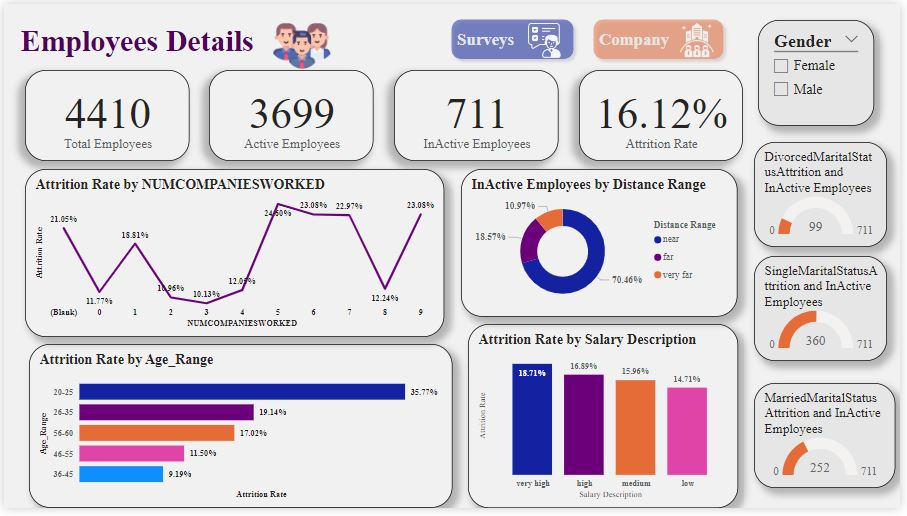

The page's visual inventory and layout, read from the dashboard file:
{"tool":"powerbi","page":{"name":"Employees","canvas":[1280,720],"ordinal":0},"visuals":[{"type":"textbox","box":[18.5,23.5,517.4,63.8],"z":0},{"type":"image","box":[351.1,13.4,147.8,94.1],"z":1000},{"type":"card","fields":{"Values":["MY_Measures.Attrition Rate"]},"box":[822,94.5,233.9,130.4],"z":2000},{"type":"card","fields":{"Values":["MY_Measures.Active Employees"]},"box":[293.4,94.5,235.3,130.4],"z":3000},{"type":"card","fields":{"Values":["MY_Measures.InActive Employees"]},"box":[557,94.5,235.3,130.4],"z":4000},{"type":"card","fields":{"Values":["MY_Measures.Total Employees"]},"box":[29.8,94.5,235.3,130.4],"z":5000},{"type":"slicer","fields":{"Values":["EMPLOYEES_Dim.GENDER"]},"box":[1076.7,23.5,166.3,151.2],"z":6000},{"type":"gauge","fields":{"Y":["MY_Measures.MarriedMaritalStatusAttrition"],"MaxValue":["MY_Measures.InActive Employees"]},"box":[1071.9,540.9,201.6,149.5],"z":7000},{"type":"gauge","fields":{"Y":["MY_Measures.DivorcedMaritalStatusAttrition"],"MaxValue":["MY_Measures.InActive Employees"]},"box":[1071.9,196.5,189.8,149.5],"z":8000},{"type":"gauge","fields":{"MaxValue":["MY_Measures.InActive Employees"],"Y":["MY_Measures.SingleMaritalStatusAttrition"]},"box":[1071.9,359.5,189.8,149.5],"z":9000},{"type":"columnChart","fields":{"Category":["EMPLOYEES_Dim.Salary Description"],"Y":["MY_Measures.Attrition Rate"]},"box":[674.6,457.8,374.2,262.2],"z":10000},{"type":"donutChart","fields":{"Category":["EMPLOYEES_Dim.Distance Range"],"Y":["MY_Measures.InActive Employees"]},"box":[653.4,235.3,395.4,211.2],"z":11000},{"type":"barChart","fields":{"Y":["MY_Measures.Attrition Rate"],"Category":["EMPLOYEES_Dim.Age_Range"]},"box":[35.4,486.1,605.2,233.9],"z":12000},{"type":"lineChart","fields":{"Category":["EMPLOYEES_Dim.Working Company Years"],"Y":["MY_Measures.Attrition Rate"]},"box":[29.8,235.3,592.4,239.5],"z":13000},{"type":"actionButton","box":[629.3,12.8,192.8,75.1],"z":14000},{"type":"image","box":[731.3,21.3,80.8,60.9],"z":15000},{"type":"actionButton","box":[833.4,12.8,204.1,75.1],"z":15001},{"type":"image","box":[959.5,21.3,60.9,59.5],"z":15002}]}

Visuals, with their boxes in screenshot pixels (x1, y1, x2, y2), scaled from the page's 1280x720 canvas onto the 907x516 screenshot:
textbox: detection(13, 17, 380, 63)
image: detection(249, 10, 354, 77)
card - MY_Measures.Attrition Rate: detection(582, 68, 748, 161)
card - MY_Measures.Active Employees: detection(208, 68, 375, 161)
card - MY_Measures.InActive Employees: detection(395, 68, 561, 161)
card - MY_Measures.Total Employees: detection(21, 68, 188, 161)
slicer - EMPLOYEES_Dim.GENDER: detection(763, 17, 881, 125)
gauge - MY_Measures.MarriedMaritalStatusAttrition x MY_Measures.InActive Employees: detection(760, 388, 902, 495)
gauge - MY_Measures.DivorcedMaritalStatusAttrition x MY_Measures.InActive Employees: detection(760, 141, 894, 248)
gauge - MY_Measures.InActive Employees x MY_Measures.SingleMaritalStatusAttrition: detection(760, 258, 894, 365)
columnChart - EMPLOYEES_Dim.Salary Description x MY_Measures.Attrition Rate: detection(478, 328, 743, 515)
donutChart - EMPLOYEES_Dim.Distance Range x MY_Measures.InActive Employees: detection(463, 169, 743, 320)
barChart - MY_Measures.Attrition Rate x EMPLOYEES_Dim.Age_Range: detection(25, 348, 454, 515)
lineChart - EMPLOYEES_Dim.Working Company Years x MY_Measures.Attrition Rate: detection(21, 169, 441, 340)
actionButton: detection(446, 9, 583, 63)
image: detection(518, 15, 575, 59)
actionButton: detection(591, 9, 735, 63)
image: detection(680, 15, 723, 58)
